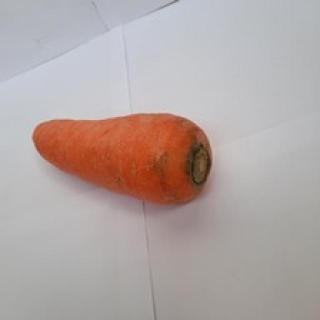carrot: (31, 112, 212, 204)
